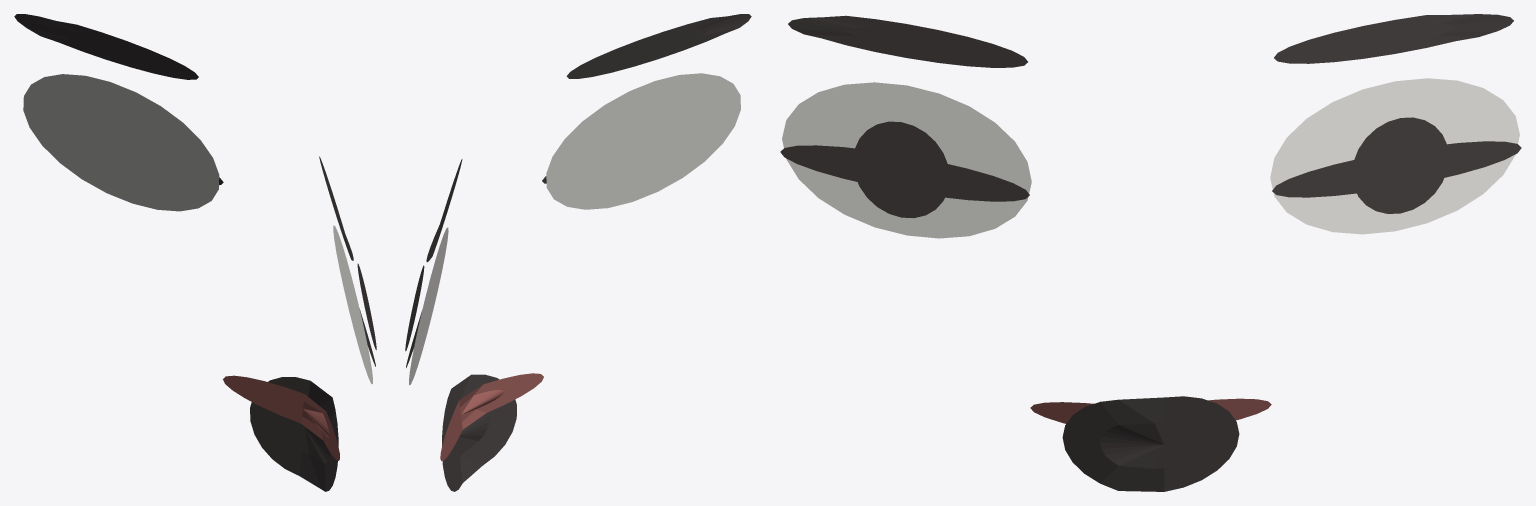
The model's file is char_ye_wenjie_face.glb.
3 views of the same model, side by side, from view 1: azimuth 30°, elevation 25°; view 2: azimuth 150°, elevation 25°; view 3: azimuth 270°, elevation 25° (orthographic). The views are drawn at different scales.
Visible parts, largest first — view 1: eye_white_L, mouth_open, brow_L, mouth_line, eye_white_R, brow_R, pupil_R; view 2: eye_white_R, mouth_open, brow_R, mouth_line, eye_white_L, brow_L, pupil_L; view 3: eye_white_L, eye_white_R, mouth_open, pupil_L, pupil_R, brow_R, brow_L, eye_closed_R, eye_closed_L, mouth_line.
Boxes of the visible parts, x1,y1,x2,y2 form: eye_white_L: (23,74,219,211); mouth_open: (250,377,338,491); brow_L: (14,14,198,79); mouth_line: (223,375,339,460); eye_white_R: (333,225,372,384); brow_R: (319,156,353,260); pupil_R: (357,263,376,350); eye_white_R: (546,73,740,209); mouth_open: (442,374,516,491); brow_R: (566,14,751,78); mouth_line: (440,373,543,461); eye_white_L: (409,227,448,385); brow_L: (426,159,462,262); pupil_L: (405,265,424,351); eye_white_L: (1270,78,1519,234); eye_white_R: (782,82,1031,238); mouth_open: (1062,396,1239,491); pupil_L: (1352,117,1448,213); pupil_R: (853,121,949,218); brow_R: (788,15,1027,67); brow_L: (1274,14,1513,63); eye_closed_R: (780,145,1029,201); eye_closed_L: (1272,141,1521,197); mouth_line: (1030,398,1271,423).
Bounding box in the file's own units: 0.0141 × 0.0384 × 0.0609.
